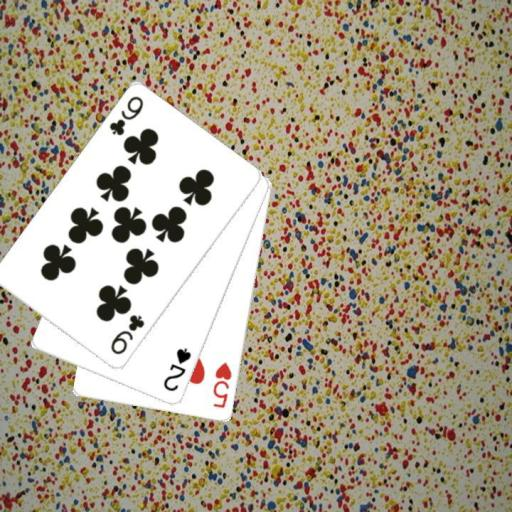2S: (160, 345, 193, 393)
5H: (210, 359, 234, 410)
9C: (108, 311, 147, 357), (106, 93, 145, 138)
